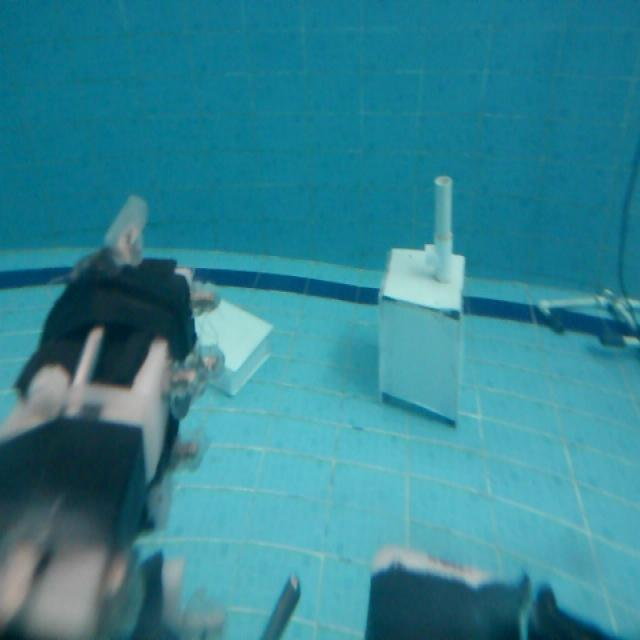Cube: (373, 240, 471, 436)
Cuboid: (190, 292, 274, 396)
